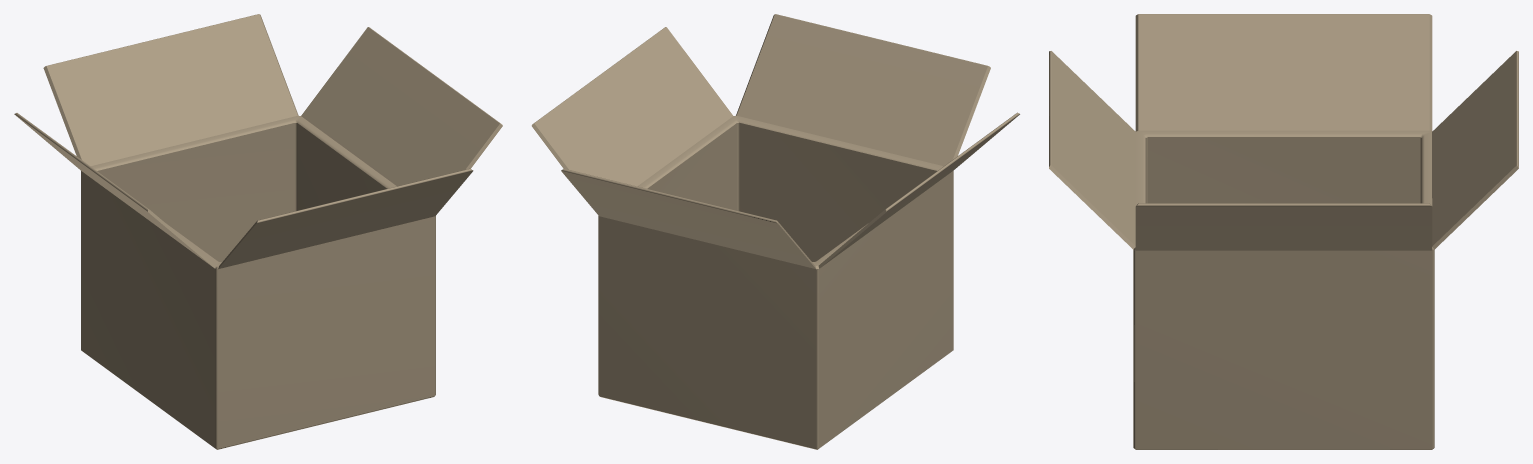
File: Cardboard Box Nothing Inside.fbx
The picture shows the model from 3 angles, left to right: view 1: azimuth 30°, elevation 25°; view 2: azimuth 150°, elevation 25°; view 3: azimuth 270°, elevation 25°; orthographic projection. The views are drawn at different scales.
Visible parts, largest first — view 1: pCube1; view 2: pCube1; view 3: pCube1.
Boxes of the visible parts, left/top/right/bottom form: pCube1: left=14, top=14, right=502, bottom=449; pCube1: left=531, top=14, right=1019, bottom=449; pCube1: left=1049, top=14, right=1518, bottom=449.
Size of the model in its own units: 7.3 by 5.06 by 7.6.
